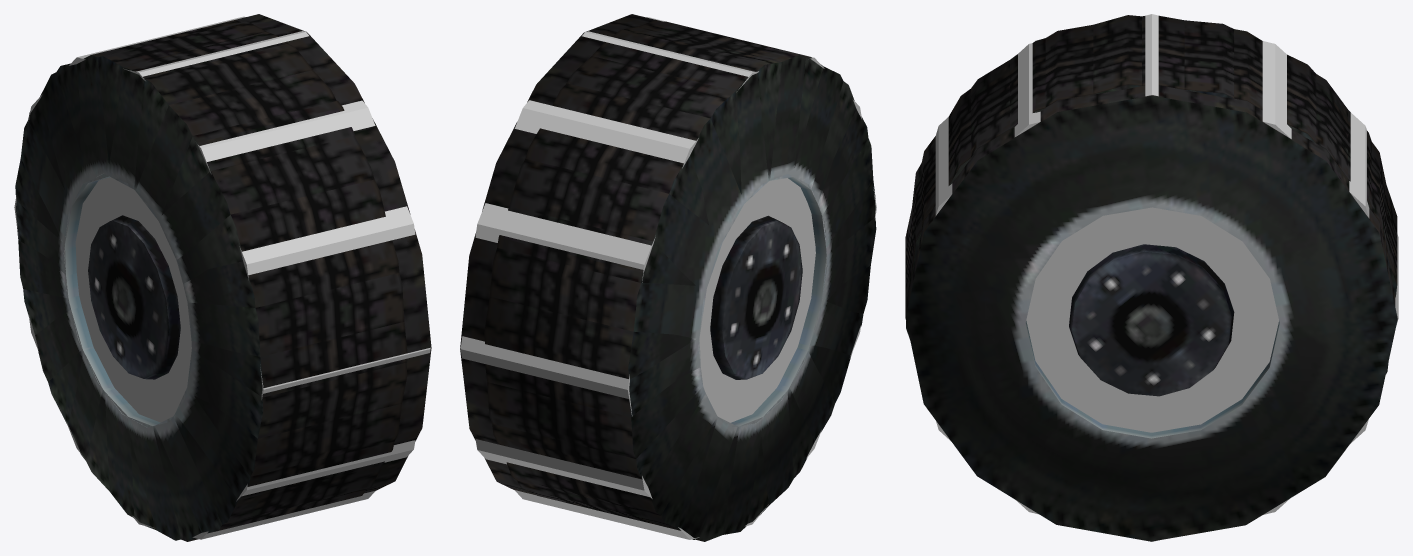
File: tire_6_out.fbx
3 views of the same model, side by side, from view 1: azimuth 30°, elevation 25°; view 2: azimuth 150°, elevation 25°; view 3: azimuth 270°, elevation 25° (orthographic).
Visible parts, largest first — view 1: Surface2, Surface0, tire_fr_shadow, Surface7, tire_fl_shadow, Surface4, Surface6, Surface3, Surface1; view 2: Surface2, Surface0, tire_fr_shadow, tire_fl_shadow, Surface7, Surface4, Surface6, Surface3, Surface1; view 3: Surface4, tire_fl_shadow, Surface1, Surface2, Surface0, tire_fr_shadow, Surface6, Surface5.
Boxes of the visible parts, x1=… form: Surface2: x1=16, y1=20, x2=407, y2=541; Surface0: x1=15, y1=21, x2=407, y2=540; tire_fr_shadow: x1=14, y1=22, x2=389, y2=539; Surface7: x1=88, y1=215, x2=180, y2=379; tire_fl_shadow: x1=158, y1=16, x2=430, y2=528; Surface4: x1=235, y1=14, x2=431, y2=493; Surface6: x1=238, y1=16, x2=429, y2=442; Surface3: x1=63, y1=174, x2=160, y2=425; Surface1: x1=65, y1=176, x2=146, y2=427; Surface2: x1=485, y1=20, x2=875, y2=541; Surface0: x1=484, y1=21, x2=876, y2=539; tire_fr_shadow: x1=483, y1=22, x2=876, y2=539; tire_fl_shadow: x1=460, y1=17, x2=732, y2=534; Surface7: x1=710, y1=215, x2=802, y2=379; Surface4: x1=460, y1=14, x2=632, y2=489; Surface6: x1=466, y1=14, x2=655, y2=494; Surface3: x1=731, y1=174, x2=826, y2=425; Surface1: x1=735, y1=177, x2=827, y2=426; Surface4: x1=905, y1=85, x2=1397, y2=541; tire_fl_shadow: x1=905, y1=25, x2=1398, y2=541; Surface1: x1=1069, y1=244, x2=1234, y2=396; Surface2: x1=905, y1=15, x2=1386, y2=305; Surface0: x1=906, y1=15, x2=1397, y2=373; tire_fr_shadow: x1=905, y1=14, x2=1398, y2=306; Surface6: x1=905, y1=85, x2=1395, y2=315; Surface5: x1=1025, y1=321, x2=1279, y2=438.
Size of the model in its own units: 0.3657 by 0.7968 by 0.7965.
